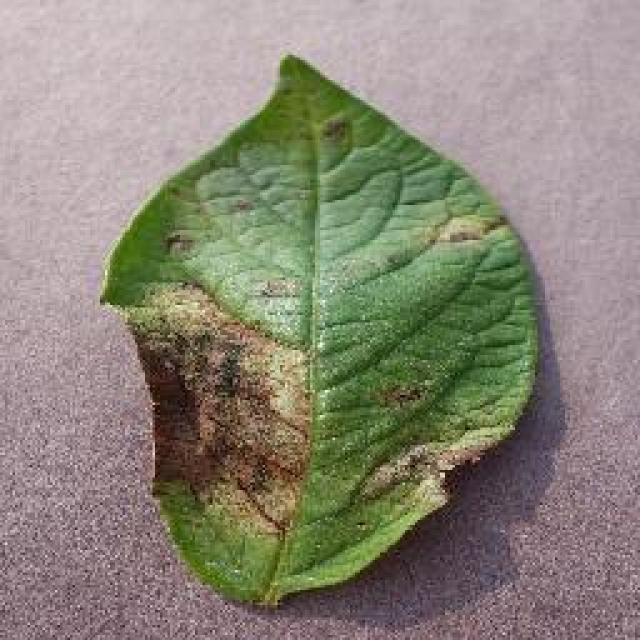Potato___Late_blight: (85, 40, 550, 628)
